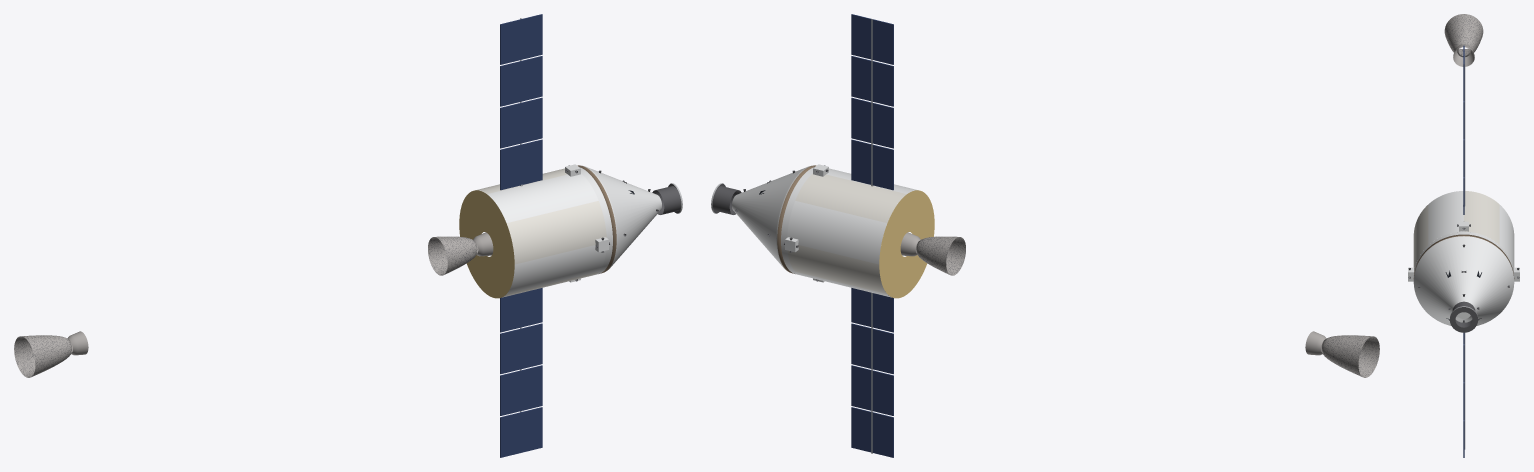
The model's file is rs1_mds.glb.
The picture shows the model from 3 angles, left to right: view 1: azimuth 30°, elevation 25°; view 2: azimuth 150°, elevation 25°; view 3: azimuth 270°, elevation 25°; orthographic projection. The views are drawn at different scales.
Parts seen in each view (by area): view 1: part_sm_structure, part_solar_wing_py, part_solar_wing_my, part_crew_module, engine_mds_main, engine_main; view 2: part_sm_structure, part_solar_wing_py, part_solar_wing_my, part_crew_module, engine_mds_main, engine_main; view 3: part_crew_module, part_sm_structure, engine_mds_main, part_docking_port, part_solar_wing_py, part_solar_wing_my, part_rcs_sm_rcs, part_heat_shield.
Boxes of the visible parts, x1,y1,x2,y2 form: part_sm_structure: (459, 167, 612, 298); part_solar_wing_py: (500, 14, 542, 190); part_solar_wing_my: (500, 288, 542, 457); part_crew_module: (580, 165, 661, 270); engine_mds_main: (14, 331, 88, 377); engine_main: (428, 232, 493, 275); part_sm_structure: (781, 167, 934, 298); part_solar_wing_py: (851, 14, 893, 190); part_solar_wing_my: (851, 288, 893, 457); part_crew_module: (732, 165, 813, 270); engine_mds_main: (1305, 331, 1379, 377); engine_main: (900, 232, 965, 275); part_crew_module: (1413, 236, 1514, 325); part_sm_structure: (1413, 191, 1514, 277); engine_mds_main: (1444, 14, 1483, 66); part_docking_port: (1449, 301, 1478, 332); part_solar_wing_py: (1463, 45, 1465, 214); part_solar_wing_my: (1463, 332, 1465, 457); part_rcs_sm_rcs: (1408, 221, 1519, 281); part_heat_shield: (1413, 234, 1514, 278).
Bounding box in the file's own units: 26.45 × 16.9 × 4.34.
